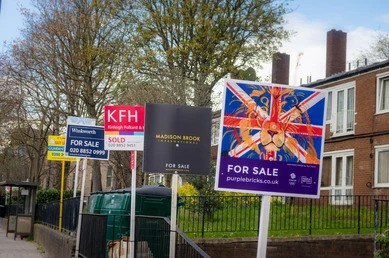property sign: (211, 71, 337, 205), (138, 94, 216, 180), (101, 99, 148, 157), (64, 114, 109, 164)
